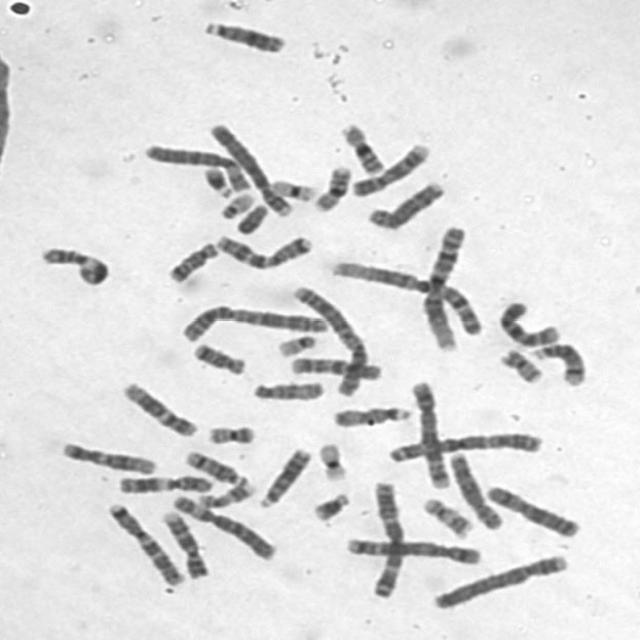A1: (328, 259, 484, 337), (419, 222, 469, 352)
A2: (287, 282, 368, 398), (174, 301, 328, 342)
A3: (384, 429, 545, 464), (366, 477, 406, 600)
B4: (428, 550, 572, 612), (206, 120, 295, 219)
B5: (407, 378, 451, 490), (341, 533, 484, 566)
C10: (494, 298, 563, 347), (287, 354, 383, 381)
C11: (38, 244, 111, 287), (113, 472, 215, 496)
C12: (118, 378, 199, 439), (58, 439, 157, 475)
C6: (168, 492, 280, 561), (144, 144, 254, 196)
C7: (103, 500, 186, 586), (210, 231, 316, 271)
C8: (362, 178, 448, 232), (446, 450, 504, 530)
C9: (348, 140, 432, 199), (157, 508, 210, 580)
D13: (254, 445, 313, 509), (198, 16, 288, 56)
D14: (529, 340, 586, 387), (182, 448, 247, 487)
D15: (329, 402, 413, 429), (248, 377, 326, 403)
E16: (337, 120, 386, 177), (311, 161, 354, 214)
E17: (419, 493, 475, 539), (193, 479, 257, 510)
E18: (163, 240, 220, 284), (189, 339, 247, 377)
F19: (314, 440, 350, 483), (269, 176, 318, 203)
F20: (497, 346, 545, 384), (203, 422, 259, 446)
G21: (308, 488, 354, 524), (200, 164, 234, 198)
G22: (217, 189, 256, 221), (274, 332, 320, 358)
X: (482, 483, 582, 539)
Y: (232, 200, 270, 236)
